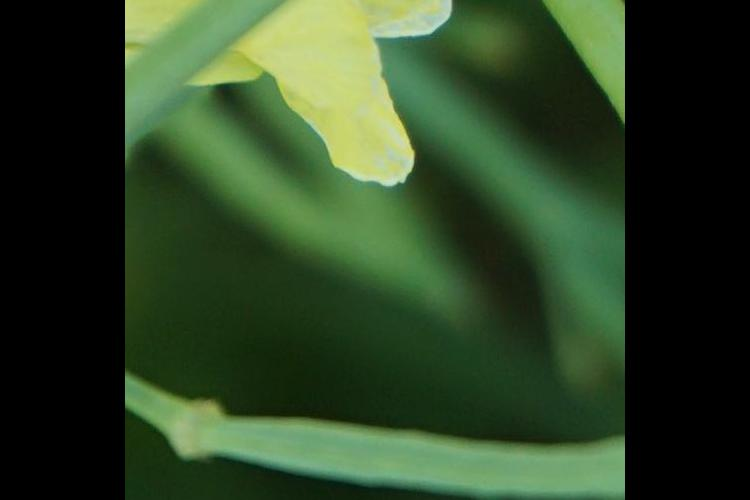yellow: (140, 1, 471, 200)
